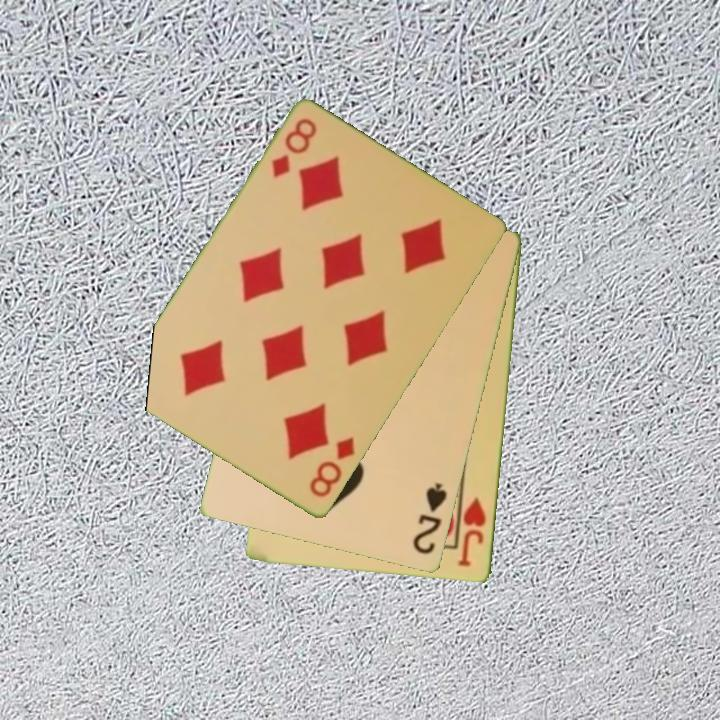2s: (409, 480, 450, 558)
8d: (306, 434, 359, 501), (267, 115, 320, 182)
Jh: (455, 494, 490, 570)
